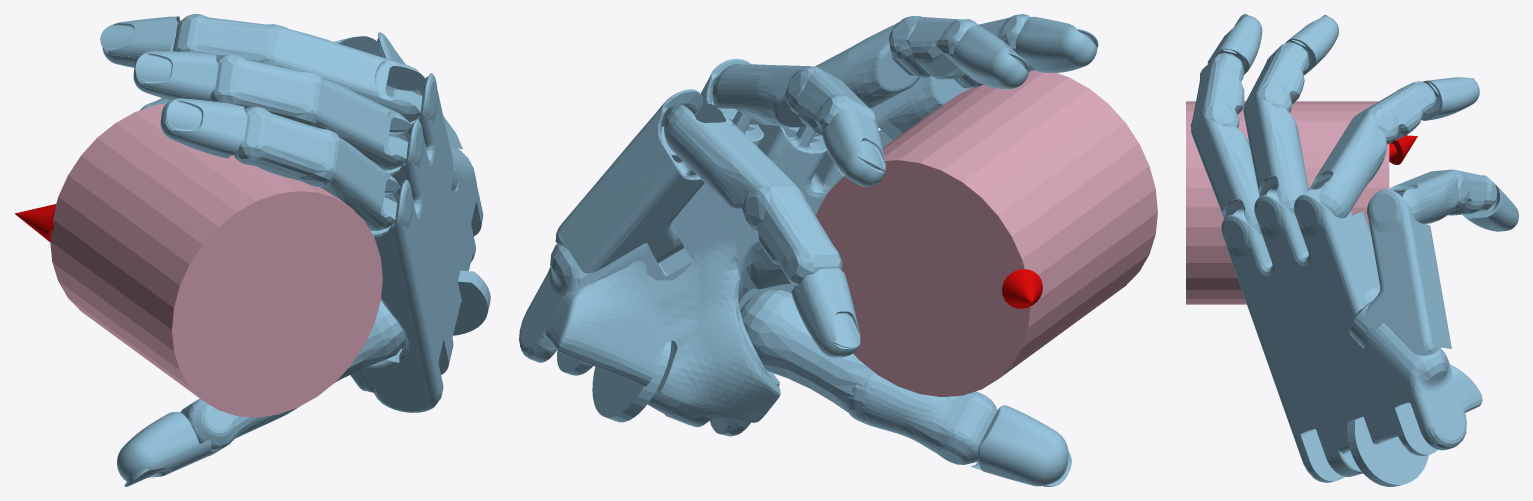
3 renders of one model, left to right at view 1: azimuth 30°, elevation 25°; view 2: azimuth 150°, elevation 25°; view 3: azimuth 270°, elevation 25°, orthographic. The views are drawn at different scales.
Visible parts, largest first — view 1: world, cylinder_medium.stl; view 2: world, cylinder_medium.stl; view 3: world, cylinder_medium.stl.
Part boxes in pixels (left/top/right/bottom): world: left=14, top=14, right=490, bottom=486; cylinder_medium.stl: left=50, top=103, right=382, bottom=417; world: left=519, top=14, right=1098, bottom=486; cylinder_medium.stl: left=816, top=70, right=1157, bottom=396; world: left=1190, top=14, right=1518, bottom=486; cylinder_medium.stl: left=1186, top=101, right=1389, bottom=304.
Size of the model in its own units: 0.1806 by 0.1548 by 0.131.
